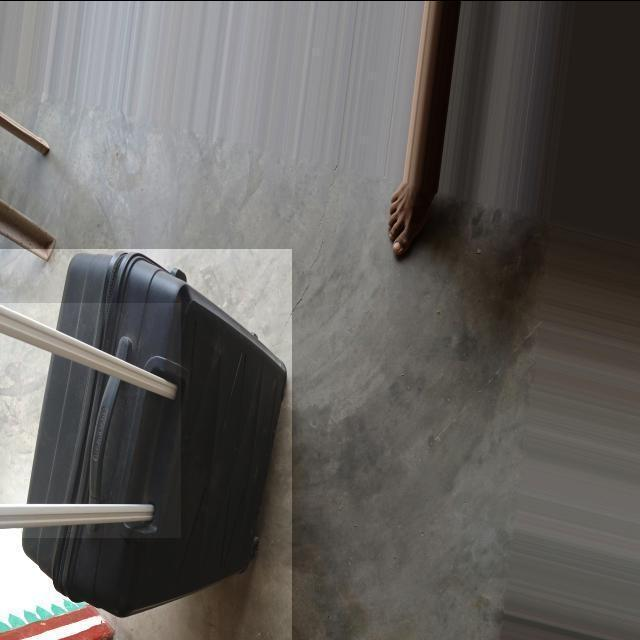Suitcase: (1, 247, 291, 618)
